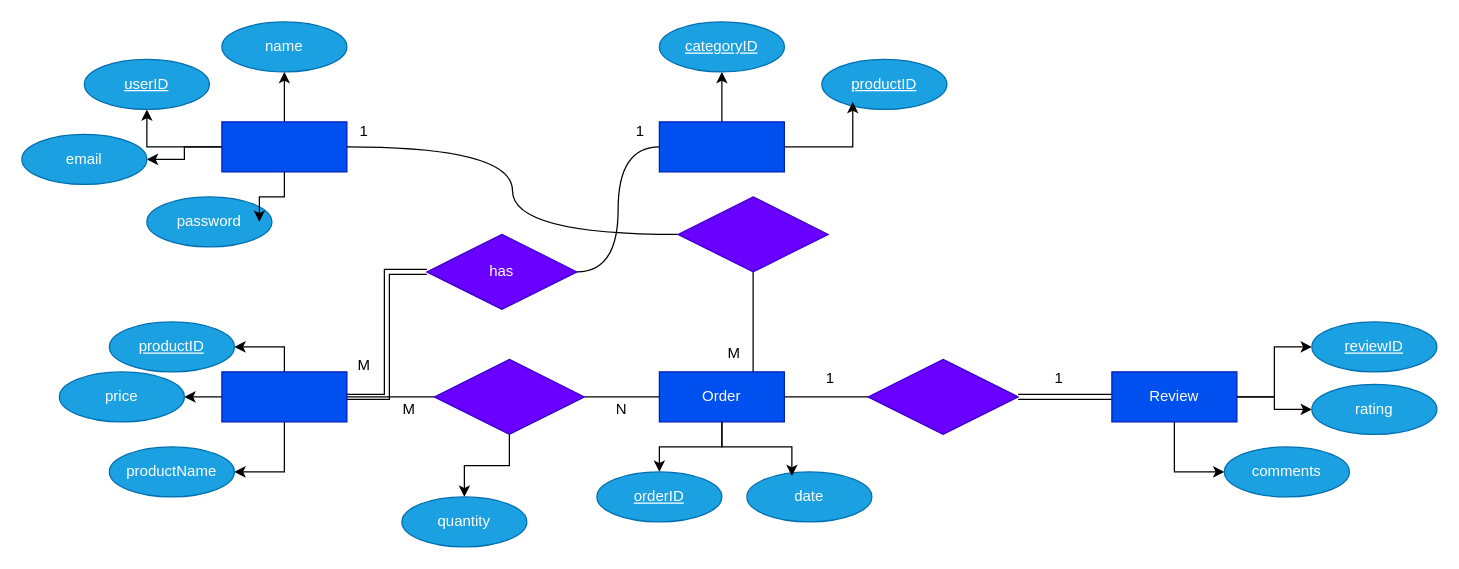
Image size: 1459x569. Some labels were removed from this diagram. Here are the shapes that lost their labels. From the top down, the centre of each, then its label:
At pixel 284 146: "User".
At pixel 721 146: "Category".
At pixel 752 234: "place".
At pixel 284 396: "Product".
At pixel 508 396: "contain".
At pixel 942 396: "have".
